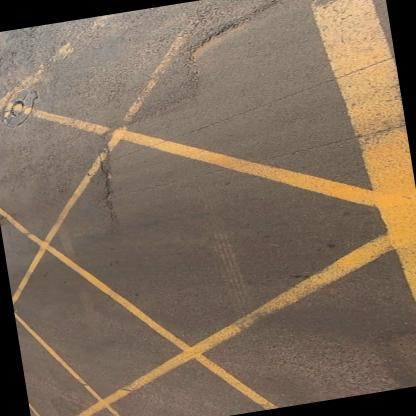manholes: (0, 80, 49, 132)
